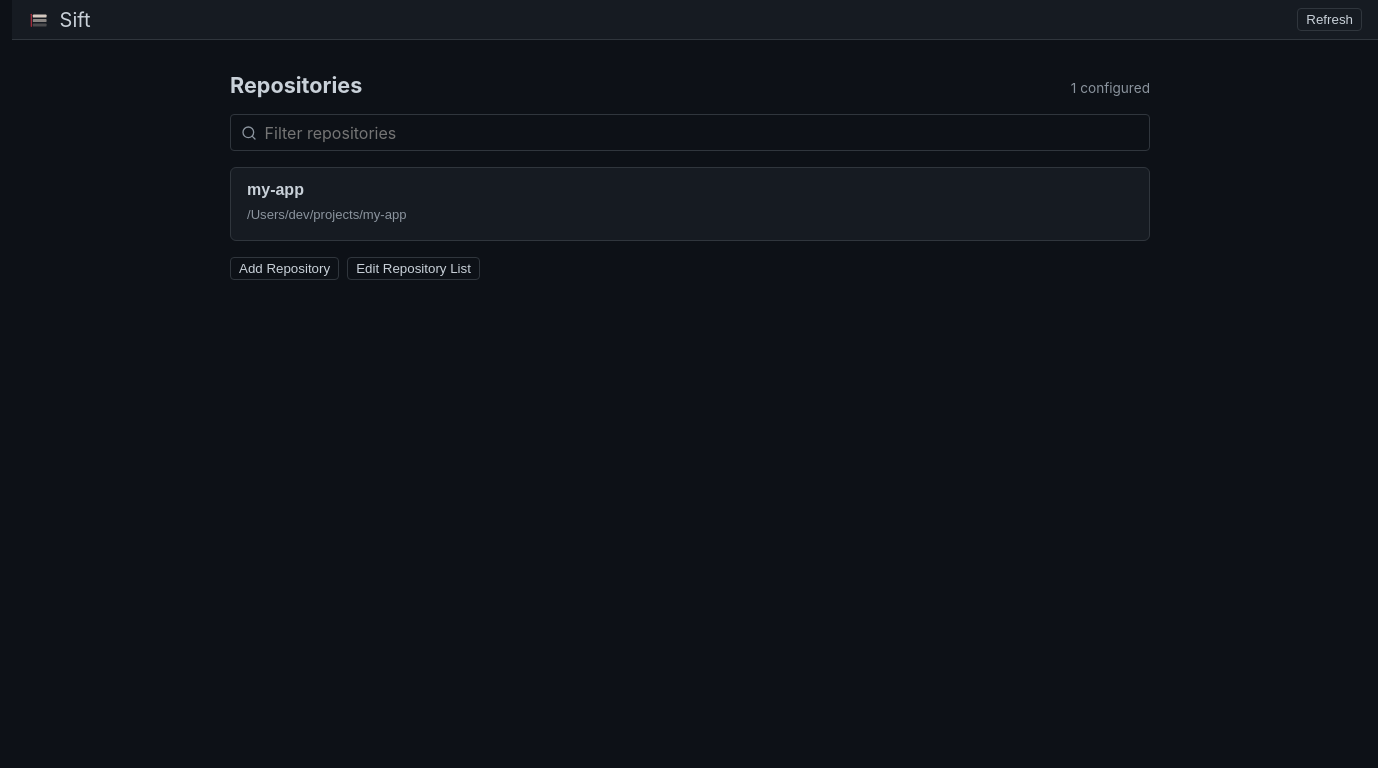
Test: App repository tabs › keeps tabs visible when returning to the viewer from selection
Click the button "my-app /Users/dev/projects/my-app". click: [275, 190]
box: [230,167,1150,241]
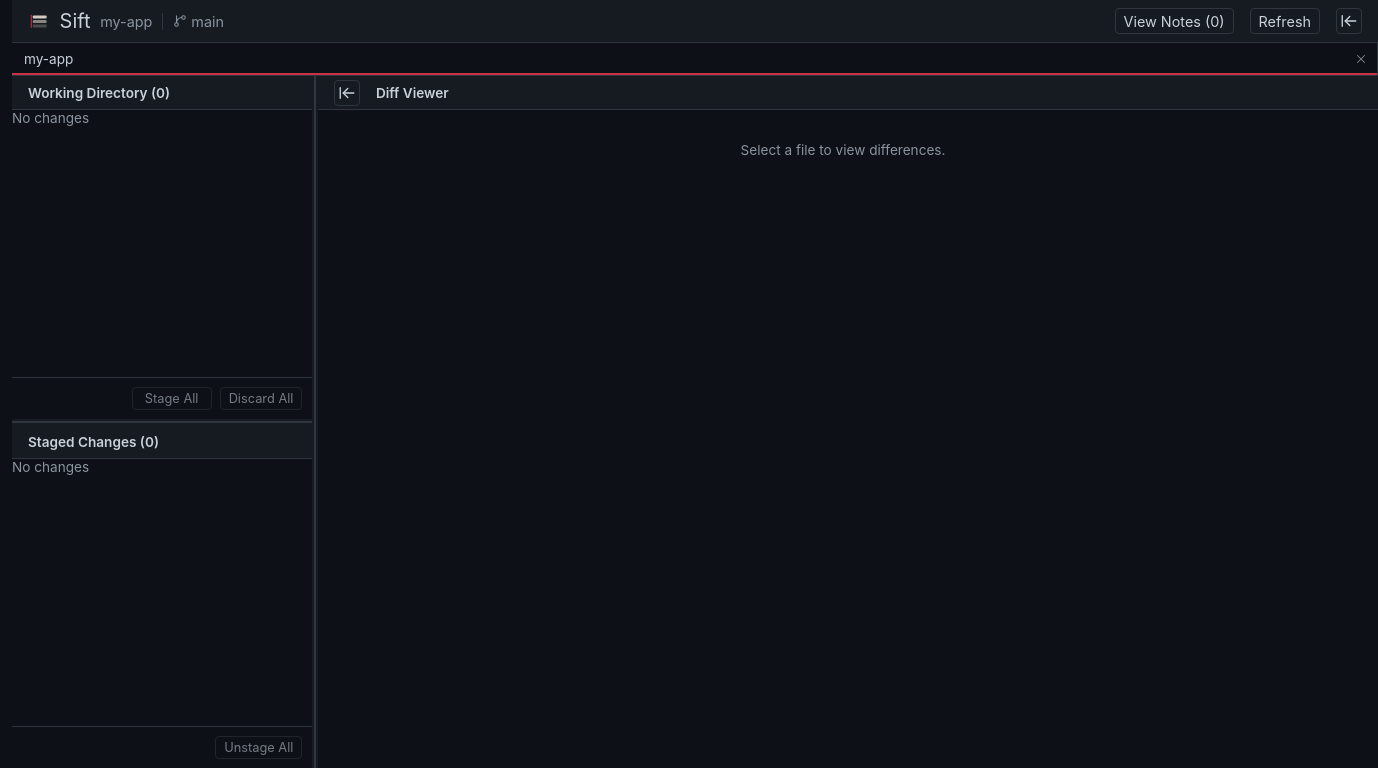
Expected: the navigation bar named "Open repositories" is shown, [12,43,1377,76]
// the user returns to selection via the brand button
Click the button "Sift". click: [59, 21]
box: [28,10,90,32]
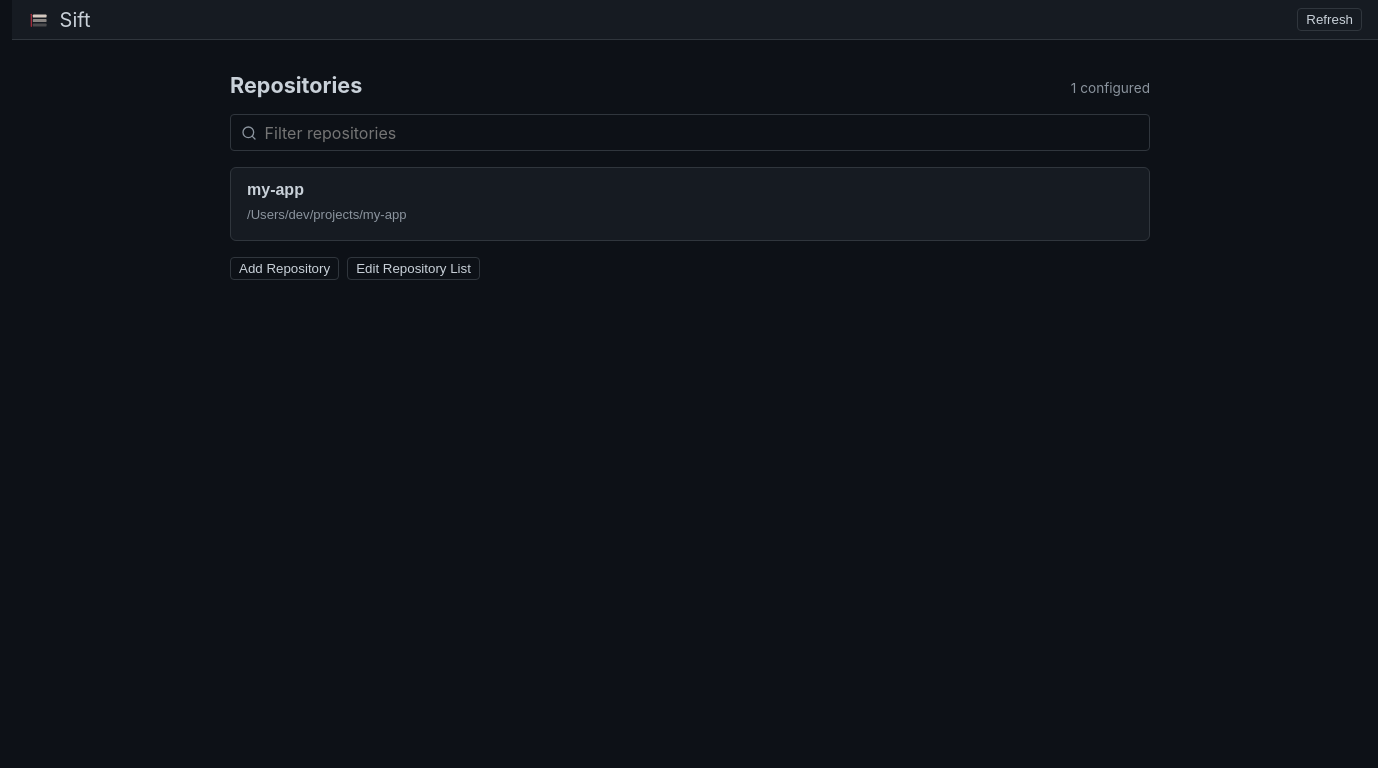
// And then opens the same repository again
Click the button "my-app /Users/dev/projects/my-app". click: [275, 190]
box: [230,167,1150,241]
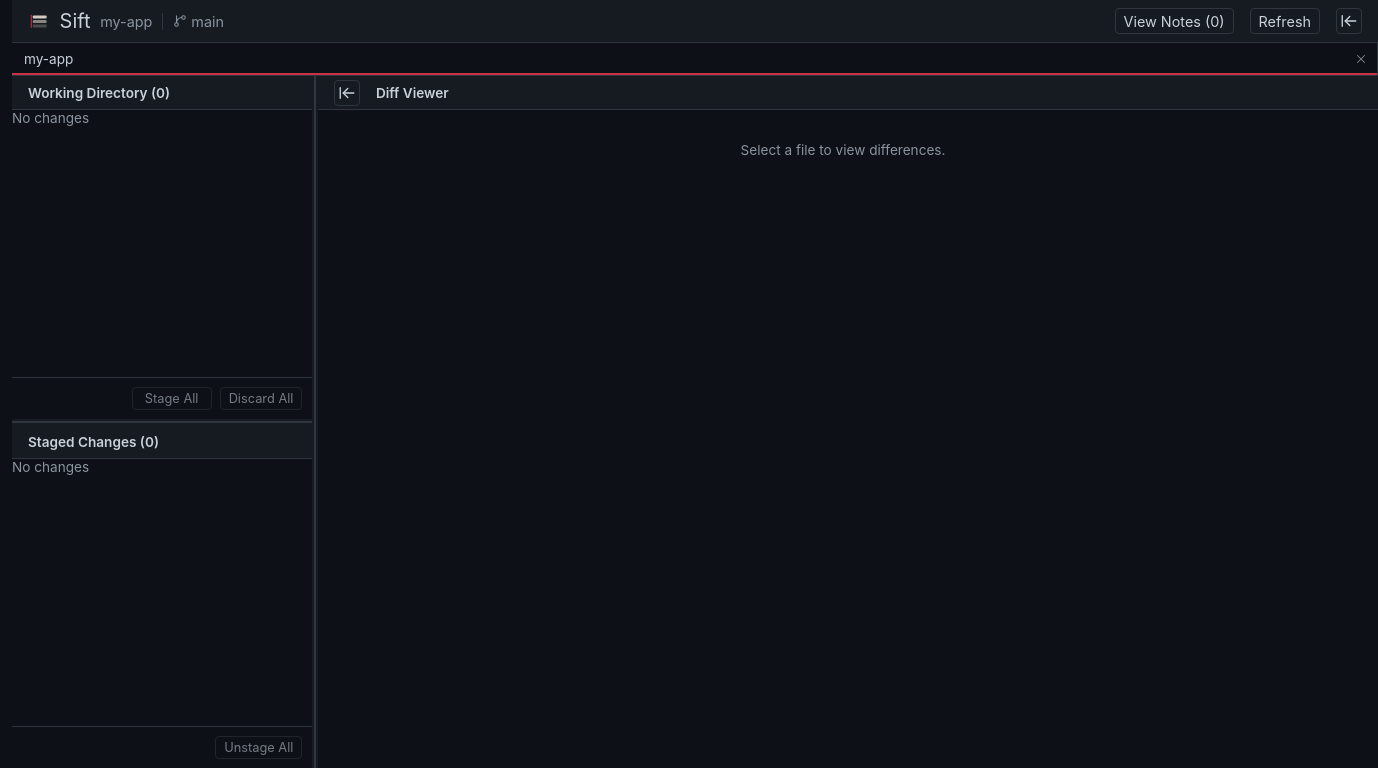
Result: the number of list items with class "repository-tab-item" is 1 at [12,43,1377,75]
